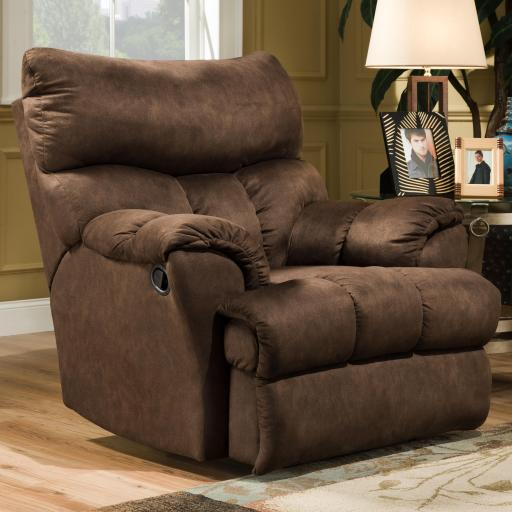chair: (19, 43, 498, 470)
